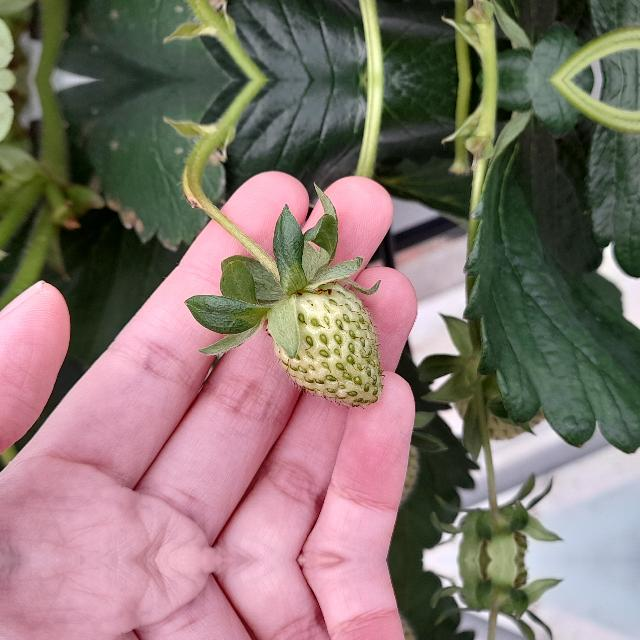Health_25: (274, 282, 382, 408)
